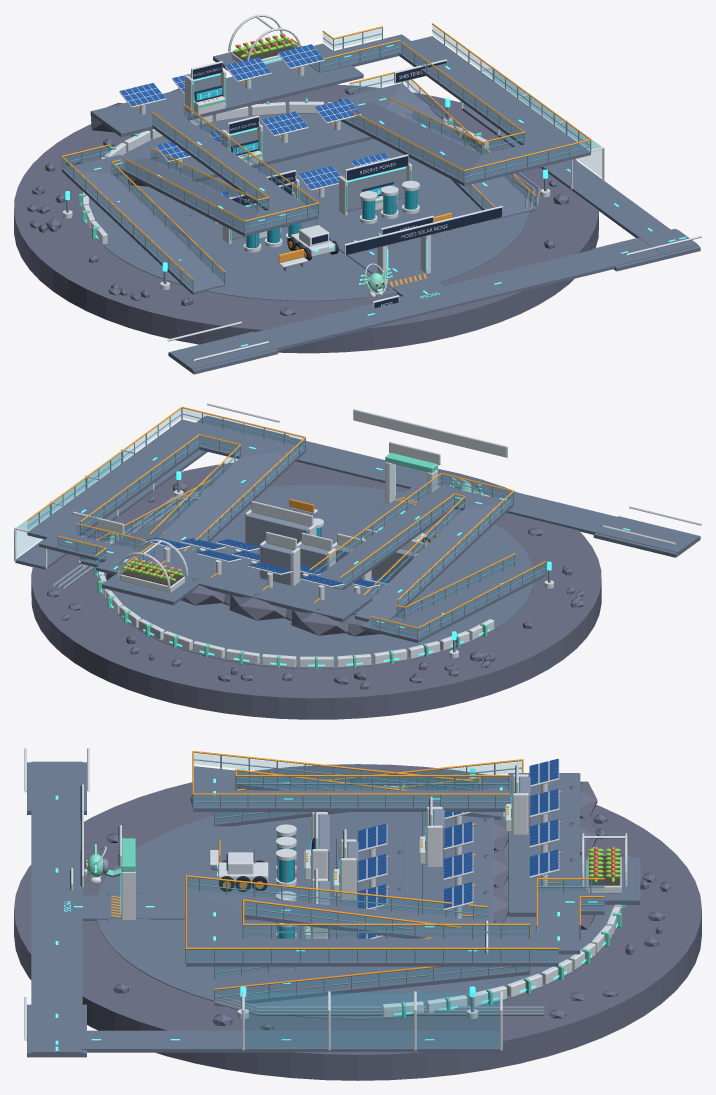
Rendered from moss.glb.
3 views of the same model, one above another, from view 1: azimuth 30°, elevation 25°; view 2: azimuth 150°, elevation 25°; view 3: azimuth 270°, elevation 25° (orthographic). The views are drawn at different scales.
Parts seen in each view (by area): view 1: BATCH_moss floor.004, BATCH_moss rock.004, BATCH_moss white.004, BATCH_moss glass.004, BATCH_moss steel.004, BATCH_moss orange.004, BATCH_moss solar.004, BATCH_moss navy.004, BATCH_moss cyan.004, BATCH_moss water.004, BATCH_moss accent.004; view 2: BATCH_moss floor.004, BATCH_moss rock.004, BATCH_moss white.004, BATCH_moss glass.004, BATCH_moss steel.004, BATCH_moss orange.004, BATCH_moss solar.004, BATCH_moss accent.004, BATCH_moss cyan.004; view 3: BATCH_moss floor.004, BATCH_moss rock.004, BATCH_moss glass.004, BATCH_moss white.004, BATCH_moss steel.004, BATCH_moss orange.004, BATCH_moss solar.004, BATCH_moss accent.004, BATCH_moss cyan.004, BATCH_moss leaf.004, BATCH_moss navy.004, BATCH_moss water.004.
Part boxes in pixels (box(x1,y1,x2,y2)): BATCH_moss floor.004: box(62, 34, 700, 374); BATCH_moss rock.004: box(14, 84, 598, 353); BATCH_moss white.004: box(62, 14, 701, 360); BATCH_moss glass.004: box(62, 26, 601, 288); BATCH_moss steel.004: box(61, 27, 591, 292); BATCH_moss orange.004: box(61, 23, 591, 286); BATCH_moss solar.004: box(120, 44, 388, 197); BATCH_moss navy.004: box(193, 61, 502, 308); BATCH_moss cyan.004: box(65, 44, 686, 346); BATCH_moss water.004: box(247, 190, 417, 248); BATCH_moss accent.004: box(78, 76, 481, 240); BATCH_moss floor.004: box(15, 415, 700, 668); BATCH_moss rock.004: box(31, 461, 601, 719); BATCH_moss white.004: box(14, 403, 701, 667); BATCH_moss glass.004: box(16, 409, 545, 637); BATCH_moss steel.004: box(27, 408, 550, 652); BATCH_moss orange.004: box(27, 406, 546, 628); BATCH_moss solar.004: box(145, 537, 392, 586); BATCH_moss accent.004: box(94, 453, 487, 670); BATCH_moss cyan.004: box(65, 446, 630, 666); BATCH_moss floor.004: box(27, 761, 640, 1057); BATCH_moss rock.004: box(14, 764, 701, 1080); BATCH_moss glass.004: box(187, 753, 604, 1046); BATCH_moss white.004: box(24, 748, 627, 1050); BATCH_moss steel.004: box(185, 755, 604, 1015); BATCH_moss orange.004: box(111, 751, 604, 990); BATCH_moss solar.004: box(357, 759, 558, 938); BATCH_moss accent.004: box(121, 780, 625, 1019); BATCH_moss cyan.004: box(55, 768, 622, 1050); BATCH_moss leaf.004: box(588, 848, 620, 882); BATCH_moss navy.004: box(70, 766, 515, 953); BATCH_moss water.004: box(278, 835, 293, 938).
Size of the model in its own units: 48 by 11.12 by 48.
